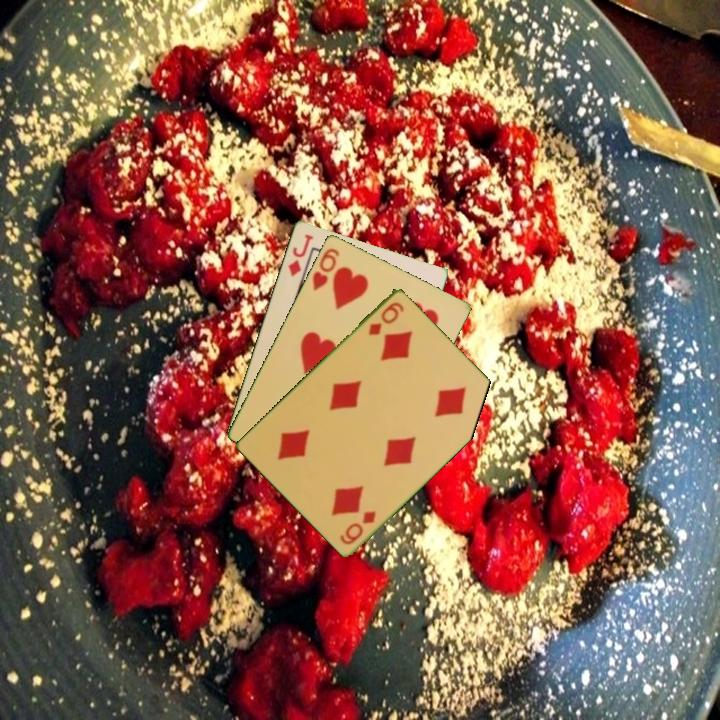6d: (336, 506, 379, 547), (365, 298, 407, 338)
6h: (308, 244, 342, 293)
Jd: (284, 230, 316, 279)
